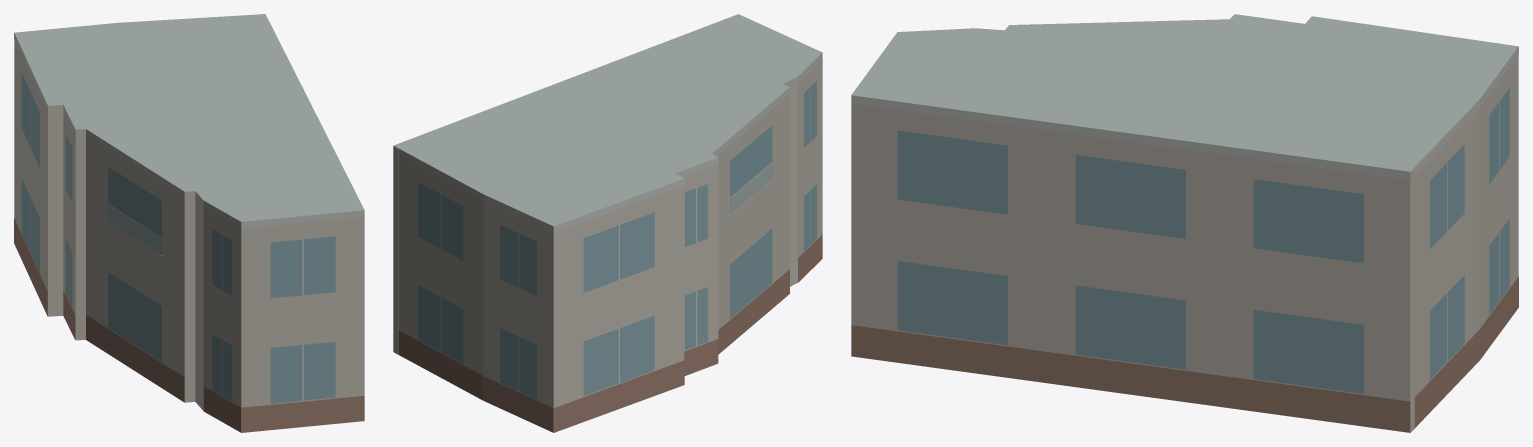
Rendered from survey-upis-32533522.glb.
The picture shows the model from 3 angles, left to right: view 1: azimuth 30°, elevation 25°; view 2: azimuth 150°, elevation 25°; view 3: azimuth 270°, elevation 25°; orthographic projection. The views are drawn at different scales.
Visible parts, largest first — view 1: survey-upis-32533522.tmp; view 2: survey-upis-32533522.tmp; view 3: survey-upis-32533522.tmp.
Boxes of the visible parts, x1=… form: survey-upis-32533522.tmp: x1=14, y1=14, x2=364, y2=432; survey-upis-32533522.tmp: x1=393, y1=14, x2=822, y2=432; survey-upis-32533522.tmp: x1=851, y1=14, x2=1518, y2=432.
Bounding box in the file's own units: 9.85 × 7.6 × 17.62.
